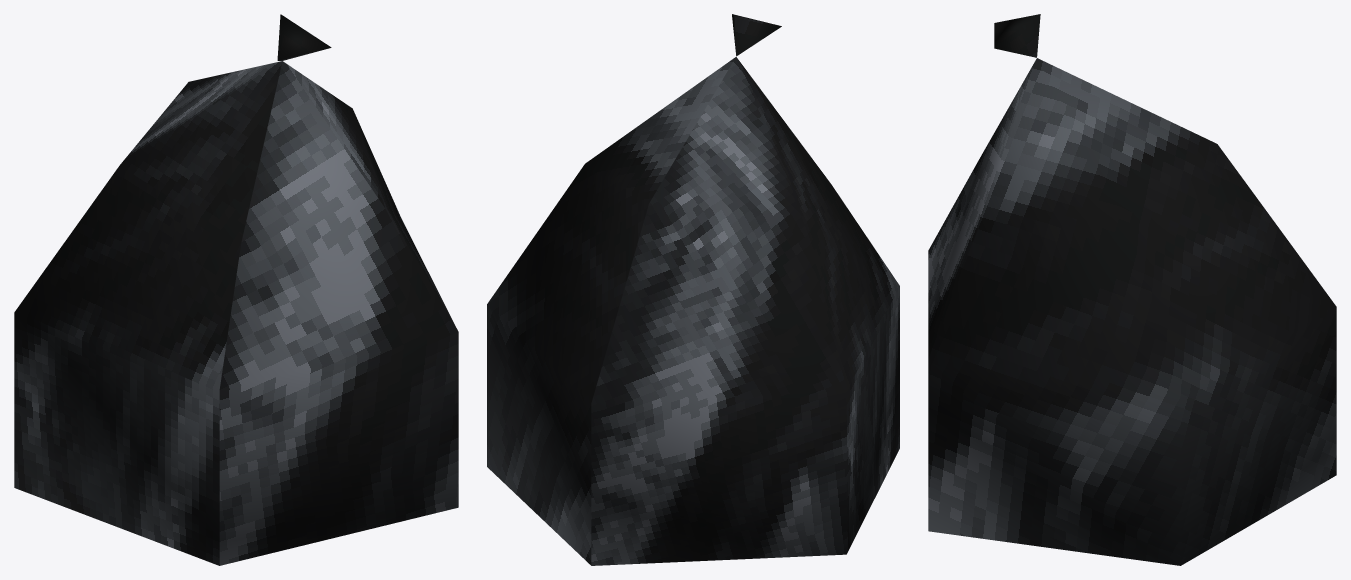
File: trashbag.fbx
The picture shows the model from 3 angles, left to right: view 1: azimuth 30°, elevation 25°; view 2: azimuth 150°, elevation 25°; view 3: azimuth 270°, elevation 25°; orthographic projection. The views are drawn at different scales.
Parts seen in each view (by area): view 1: trashbag; view 2: trashbag; view 3: trashbag.
Boxes of the visible parts, x1,y1,x2,y2 form: trashbag: (14, 14, 458, 565); trashbag: (487, 14, 899, 565); trashbag: (928, 14, 1336, 565).
Size of the model in its own units: 59.3 by 56.4 by 76.91.
1 material, 1 textured.
